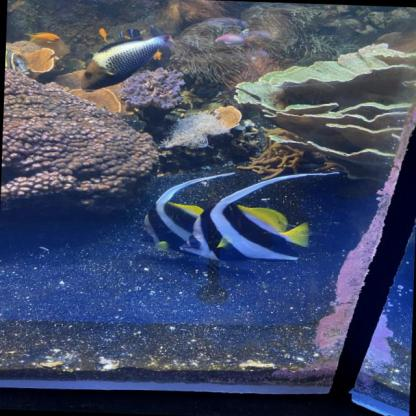fish: (178, 204, 310, 266), (80, 30, 176, 95), (141, 201, 235, 255), (5, 48, 29, 73), (215, 32, 252, 45), (25, 31, 61, 43)
